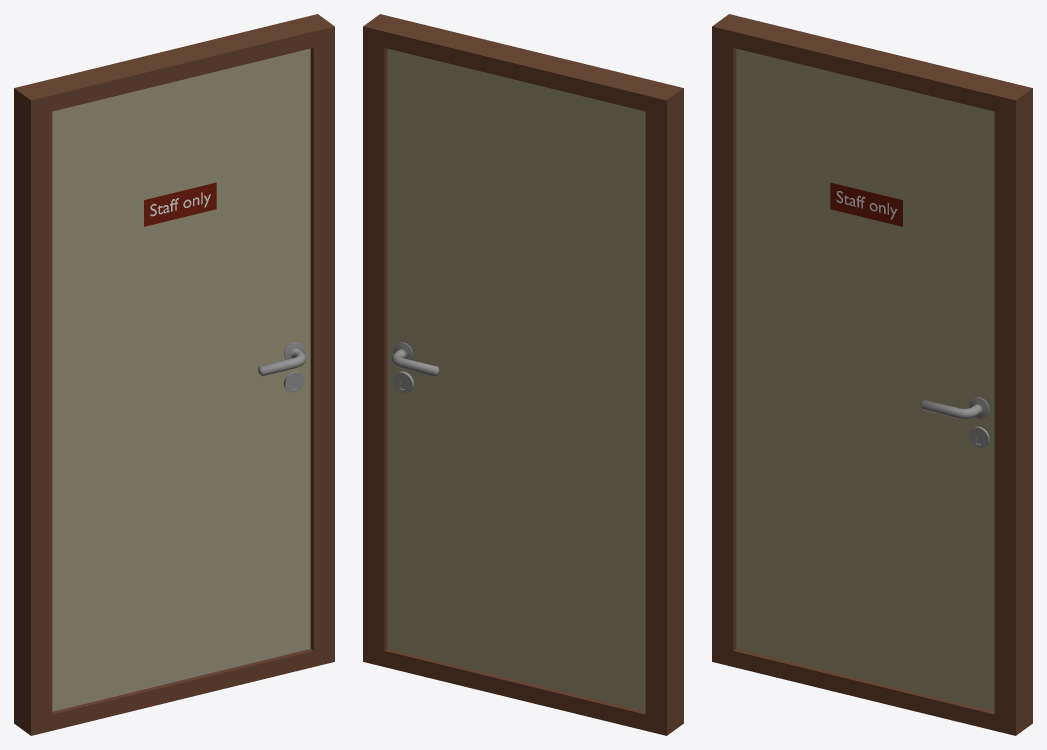
File: door.fbx
3 views of the same model, side by side, from view 1: azimuth 30°, elevation 25°; view 2: azimuth 150°, elevation 25°; view 3: azimuth 330°, elevation 25° (orthographic).
Parts seen in each view (by area): view 1: Cube.001, Cube, Cube.002, Cylinder; view 2: Cube.001, Cube, Cylinder.003; view 3: Cube.001, Cube, Cube.002, Cylinder.
Boxes of the visible parts, x1=… form: Cube.001: x1=52, y1=48, x2=310, y2=711; Cube: x1=14, y1=14, x2=334, y2=735; Cube.002: x1=144, y1=182, x2=216, y2=226; Cylinder: x1=258, y1=341, x2=305, y2=376; Cube.001: x1=387, y1=48, x2=645, y2=711; Cube: x1=363, y1=14, x2=683, y2=735; Cylinder.003: x1=391, y1=341, x2=439, y2=376; Cube.001: x1=736, y1=48, x2=994, y2=711; Cube: x1=712, y1=14, x2=1032, y2=735; Cube.002: x1=830, y1=182, x2=902, y2=226; Cylinder: x1=921, y1=397, x2=989, y2=419.
Size of the model in its own units: 249 by 497 by 57.09.
